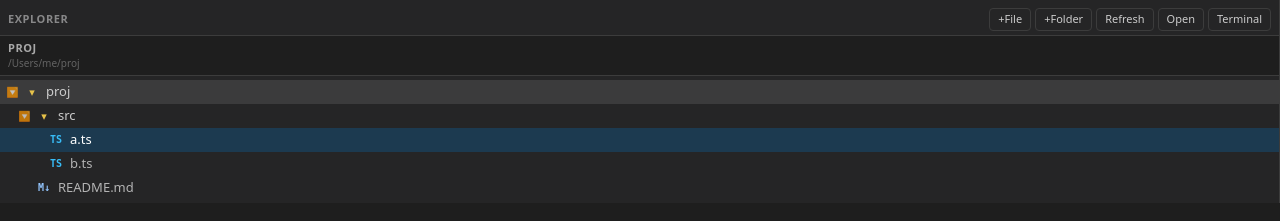
Scenario: Sidebar right-click rename / delete › rename Esc cancels without hitting the server
The image size is (1280, 221).
Step 1. Right-click the element showing "M↓ README.md" → (86, 186), box [38,178,134,196]
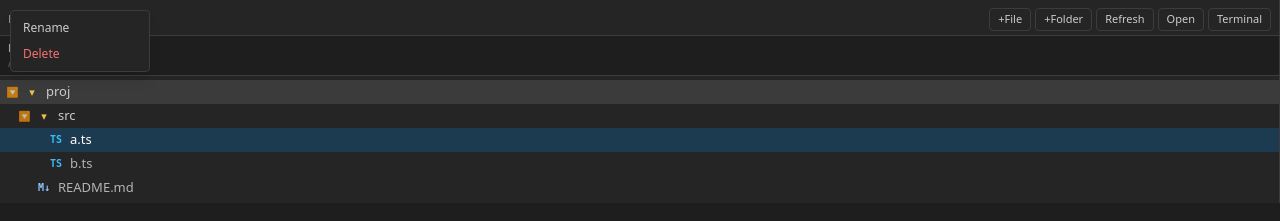
Step 2. Click the menu item with test id "context-menu-rename" → (80, 28), box [11,15,149,41]
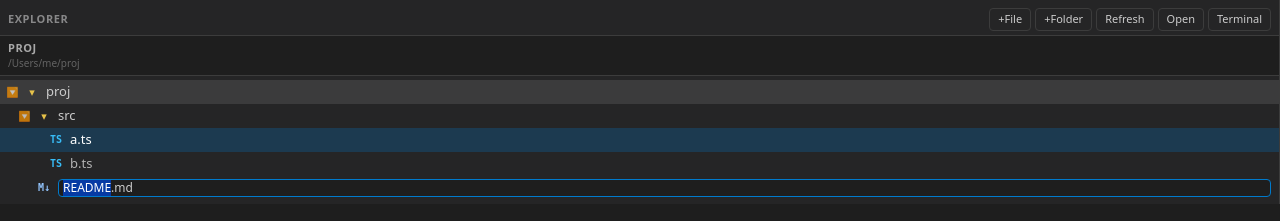
Step 3. Press Escape in the field with test id "rename-input", box [58,178,1271,197]
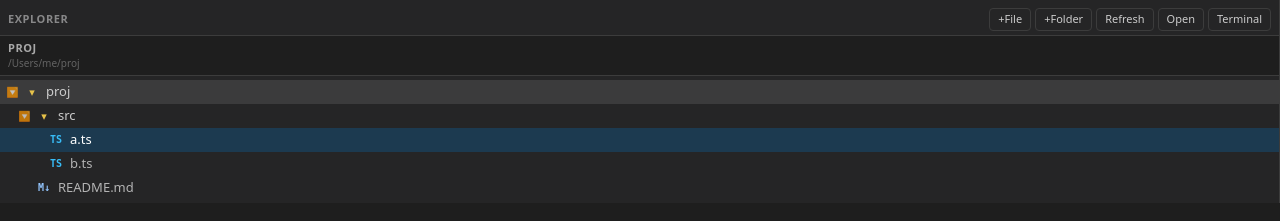
Now the field with test id "rename-input" is gone
